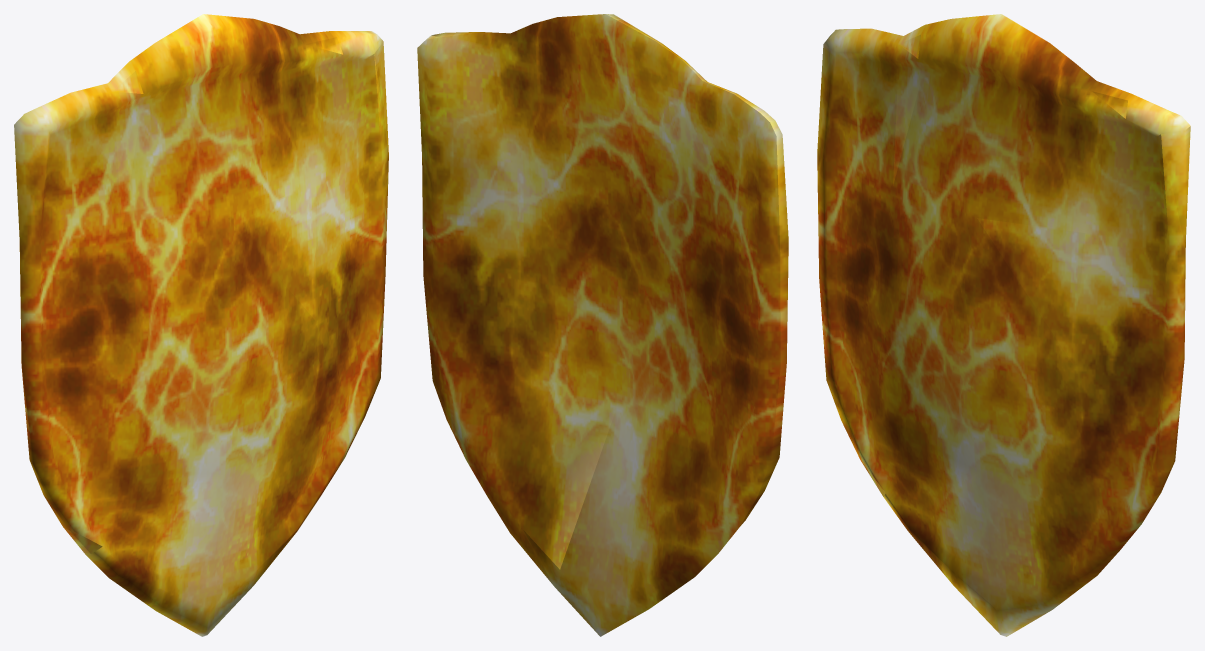
Rendered from Fx_Dun_001.FBX.
3 views of the same model, side by side, from view 1: azimuth 30°, elevation 25°; view 2: azimuth 150°, elevation 25°; view 3: azimuth 330°, elevation 25° (orthographic).
Visible parts, largest first — view 1: Shield07_SM; view 2: Shield07_SM; view 3: Shield07_SM.
Boxes of the visible parts, left/top/right/bottom form: Shield07_SM: left=14, top=14, right=388, bottom=636; Shield07_SM: left=417, top=14, right=788, bottom=636; Shield07_SM: left=817, top=14, right=1190, bottom=636.
Size of the model in its own units: 16.67 by 27.05 by 3.07.
1 material, 1 textured.
